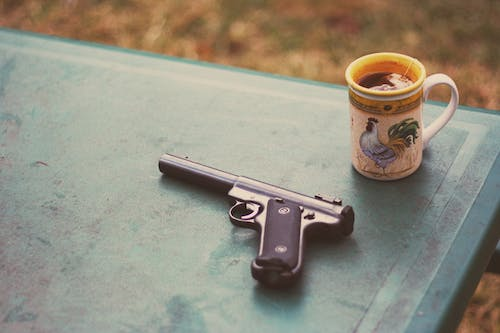gun: (159, 150, 356, 293)
